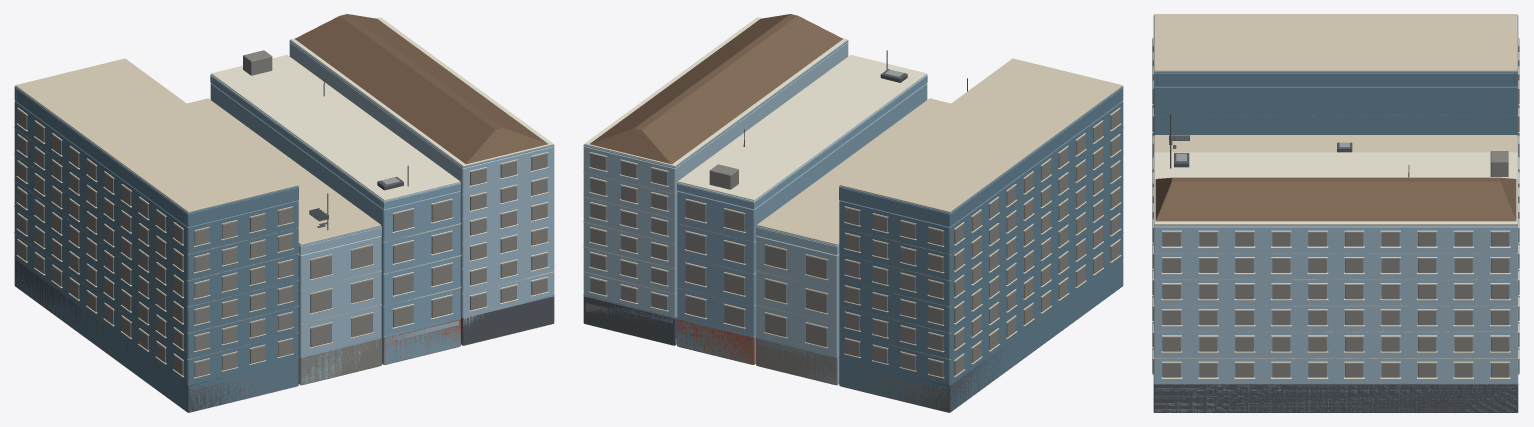
The model's file is VG_Bld_Commercial_02.fbx.
3 views of the same model, side by side, from view 1: azimuth 30°, elevation 25°; view 2: azimuth 150°, elevation 25°; view 3: azimuth 270°, elevation 25° (orthographic). The views are drawn at different scales.
Parts seen in each view (by area): view 1: VG_Bld_Commercial_02_Body; view 2: VG_Bld_Commercial_02_Body; view 3: VG_Bld_Commercial_02_Body.
Boxes of the visible parts, <box> form: VG_Bld_Commercial_02_Body: <box>14,14,554,412</box>; VG_Bld_Commercial_02_Body: <box>583,14,1123,412</box>; VG_Bld_Commercial_02_Body: <box>1152,14,1519,412</box>.
Bounding box in the file's own units: 55 × 28.59 × 45.
